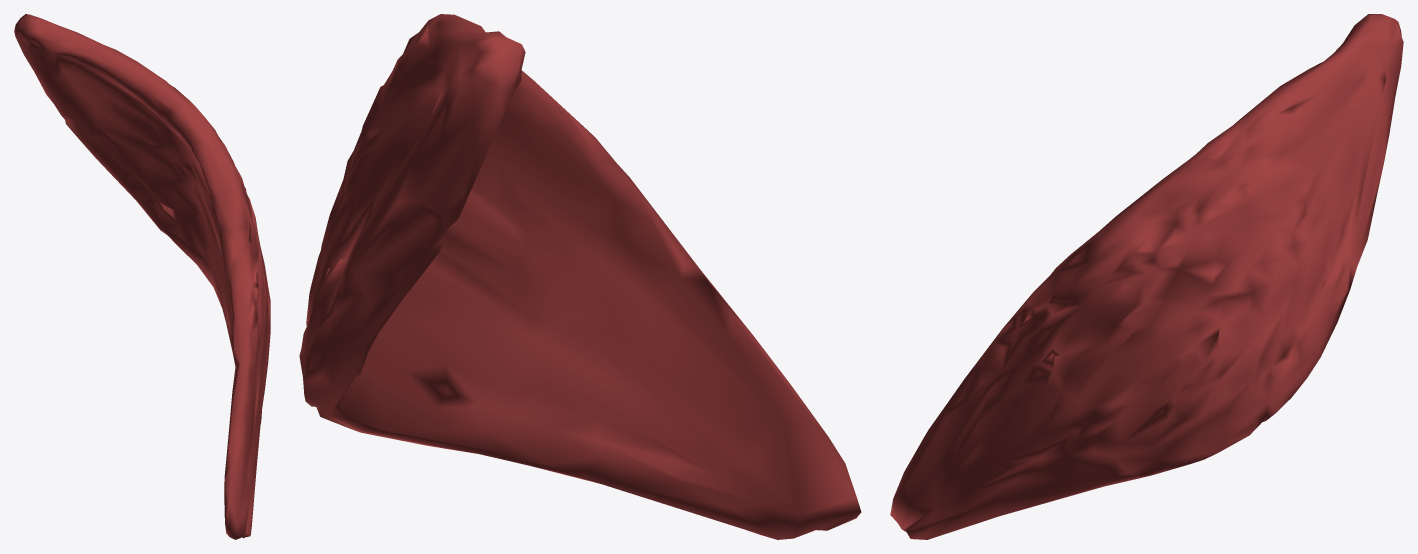
File: lateral-crico-arytenoid-muscle-l.glb
3 renders of one model, left to right at view 1: azimuth 30°, elevation 25°; view 2: azimuth 150°, elevation 25°; view 3: azimuth 270°, elevation 25°, orthographic. The views are drawn at different scales.
Parts seen in each view (by area): view 1: Lateral crico-arytenoid muscle.l; view 2: Lateral crico-arytenoid muscle.l; view 3: Lateral crico-arytenoid muscle.l.
Part boxes in pixels (x1=…): Lateral crico-arytenoid muscle.l: x1=14, y1=14, x2=270, y2=539; Lateral crico-arytenoid muscle.l: x1=299, y1=14, x2=861, y2=539; Lateral crico-arytenoid muscle.l: x1=890, y1=14, x2=1403, y2=539.
Size of the model in its own units: 0.00444 by 0.0107 by 0.00994.
